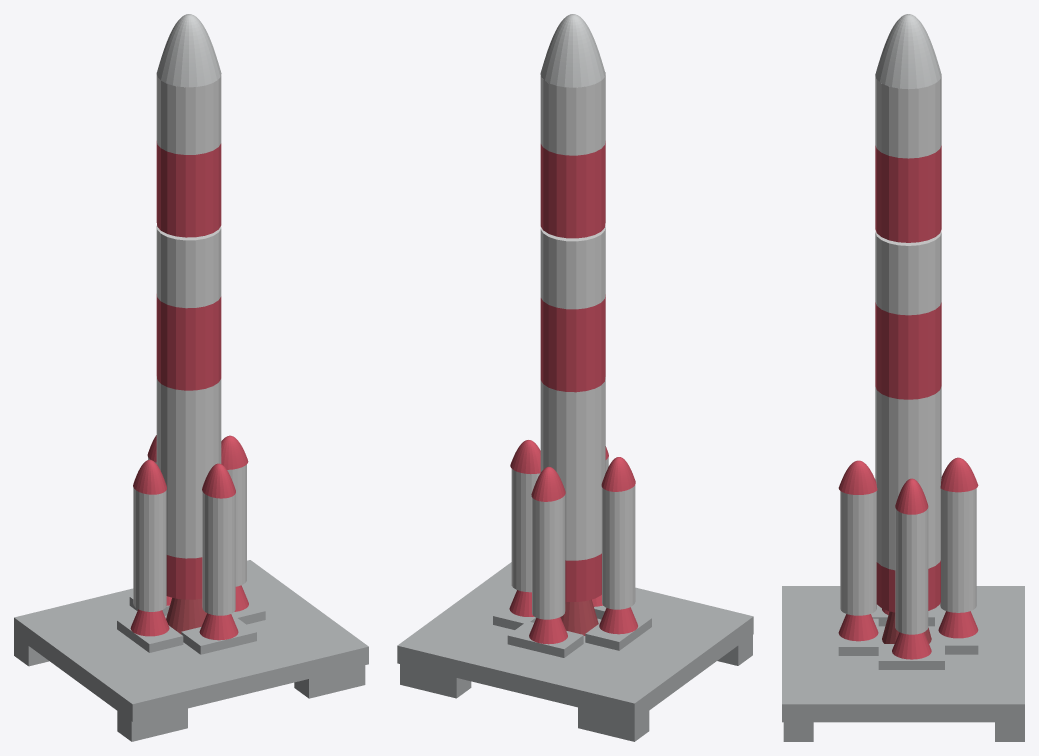
The model's file is Project 101.glb.
3 renders of one model, left to right at view 1: azimuth 30°, elevation 25°; view 2: azimuth 150°, elevation 25°; view 3: azimuth 270°, elevation 25°, orthographic. The views are drawn at different scales.
Parts seen in each view (by area): view 1: Mesh_Mesh_head_geo.001_lambert2SG.001; view 2: Mesh_Mesh_head_geo.001_lambert2SG.001; view 3: Mesh_Mesh_head_geo.001_lambert2SG.001.
Boxes of the visible parts, x1,y1,x2,y2 form: Mesh_Mesh_head_geo.001_lambert2SG.001: (14,14,368,741); Mesh_Mesh_head_geo.001_lambert2SG.001: (397,14,753,741); Mesh_Mesh_head_geo.001_lambert2SG.001: (782,14,1024,741).
Size of the model in its own units: 84 by 222 by 73.
